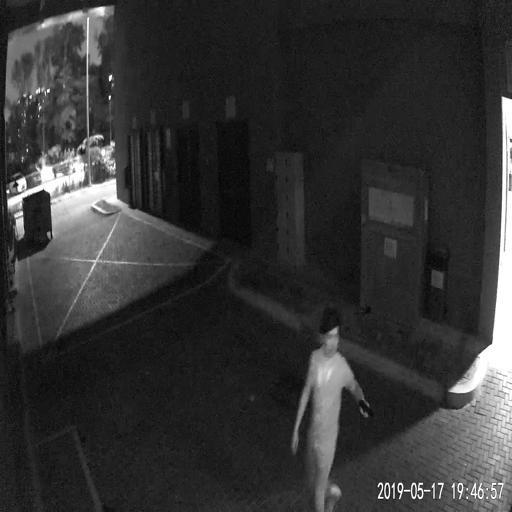Handgun: (357, 396, 373, 417)
